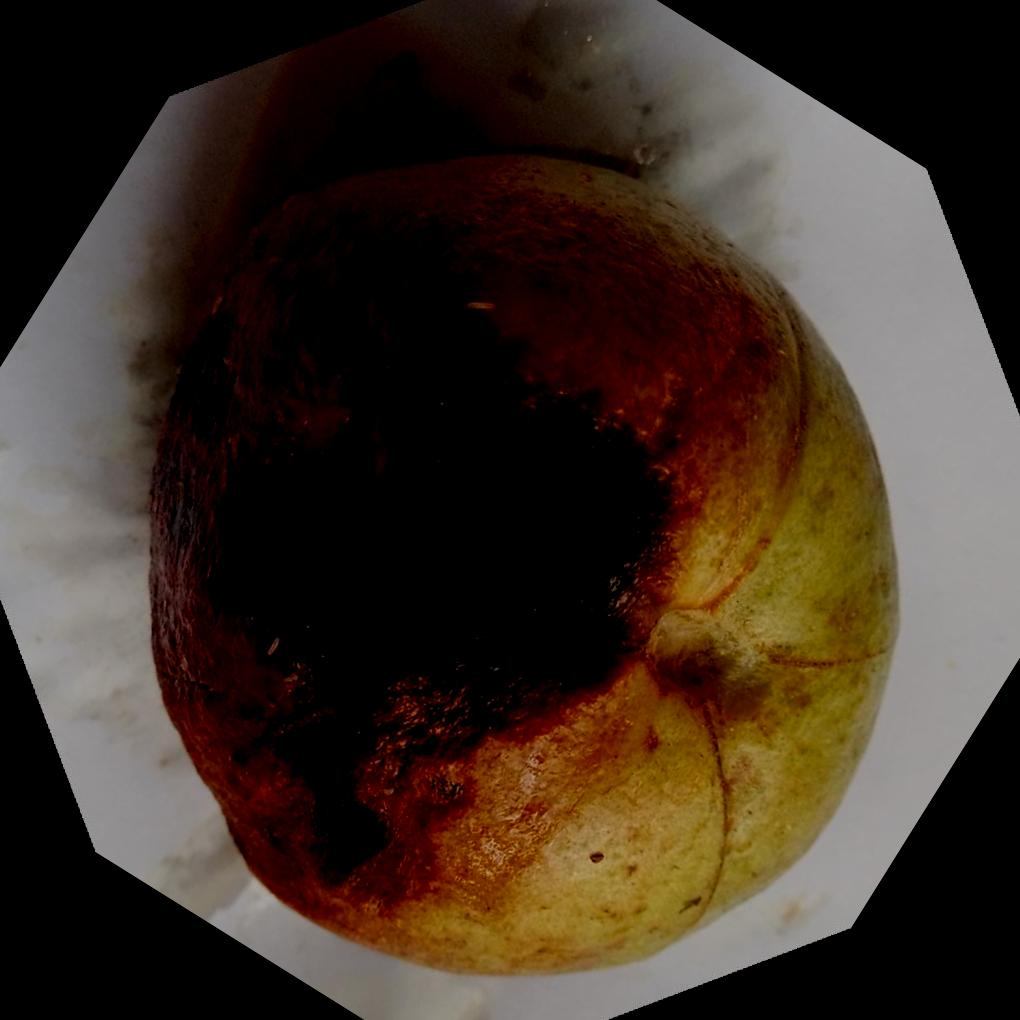FreshOrange: (141, 146, 898, 977)
